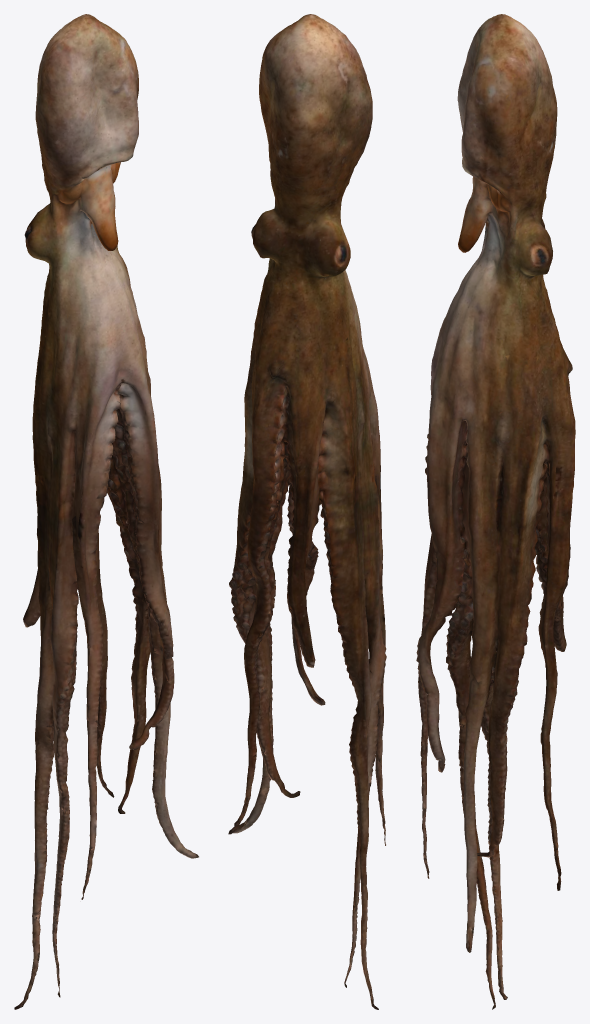
Rendered from tako.glb.
3 renders of one model, left to right at view 1: azimuth 30°, elevation 25°; view 2: azimuth 150°, elevation 25°; view 3: azimuth 270°, elevation 25°, orthographic. The views are drawn at different scales.
Visible parts, largest first — view 1: Object_6.001; view 2: Object_6.001; view 3: Object_6.001.
Part boxes in pixels (x1,y1,x2,y2): Object_6.001: [14, 14, 198, 1009]; Object_6.001: [228, 14, 386, 1009]; Object_6.001: [416, 14, 575, 1009].
Size of the model in its own units: 0.7148 by 4 by 0.5663.
1 material, 1 textured.
